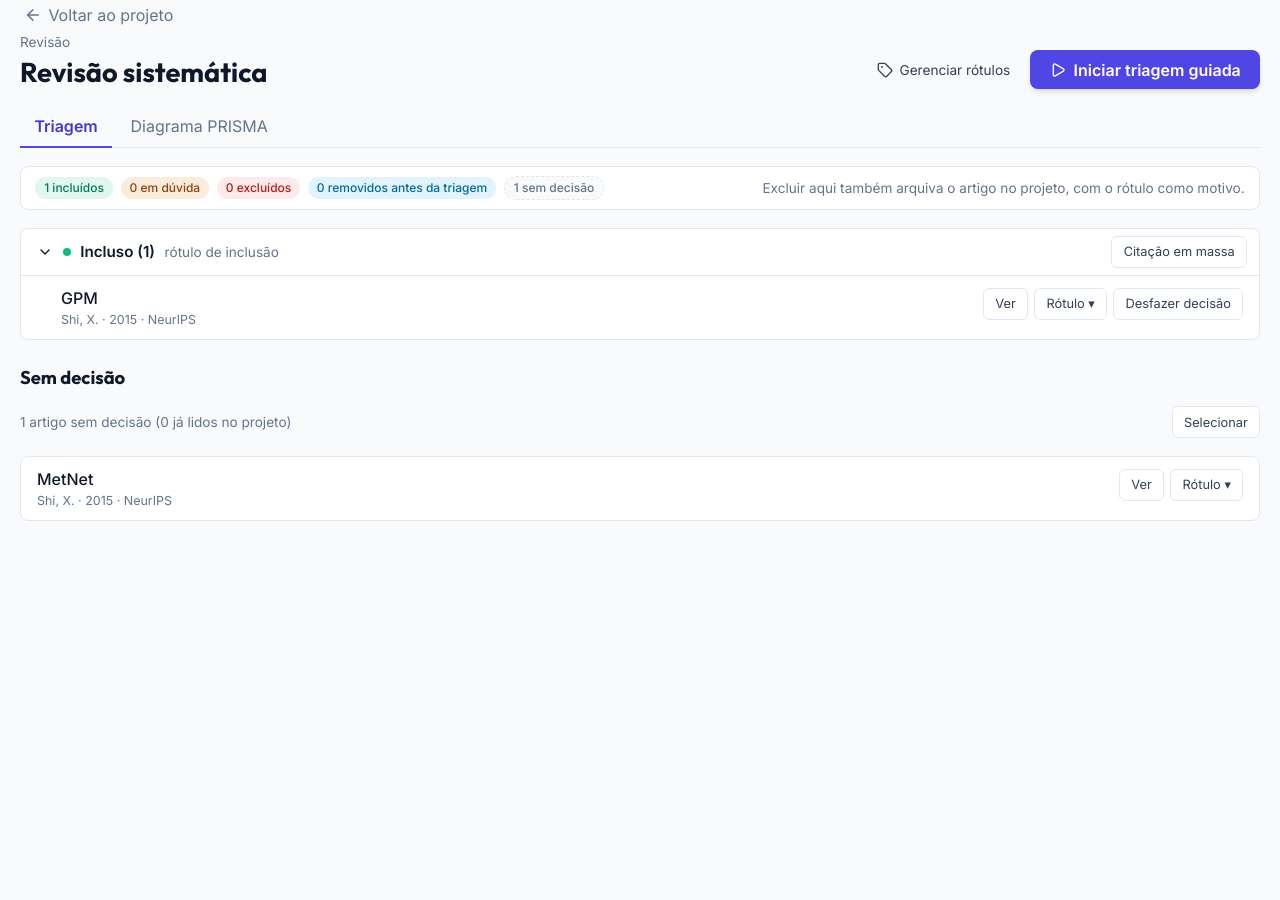
Test: SystematicReviewPage (#49) › closes a section and a label menu
Click the button "Incluso (1) rótulo de inclusão" at (107, 252), box [21,229,1112,275]
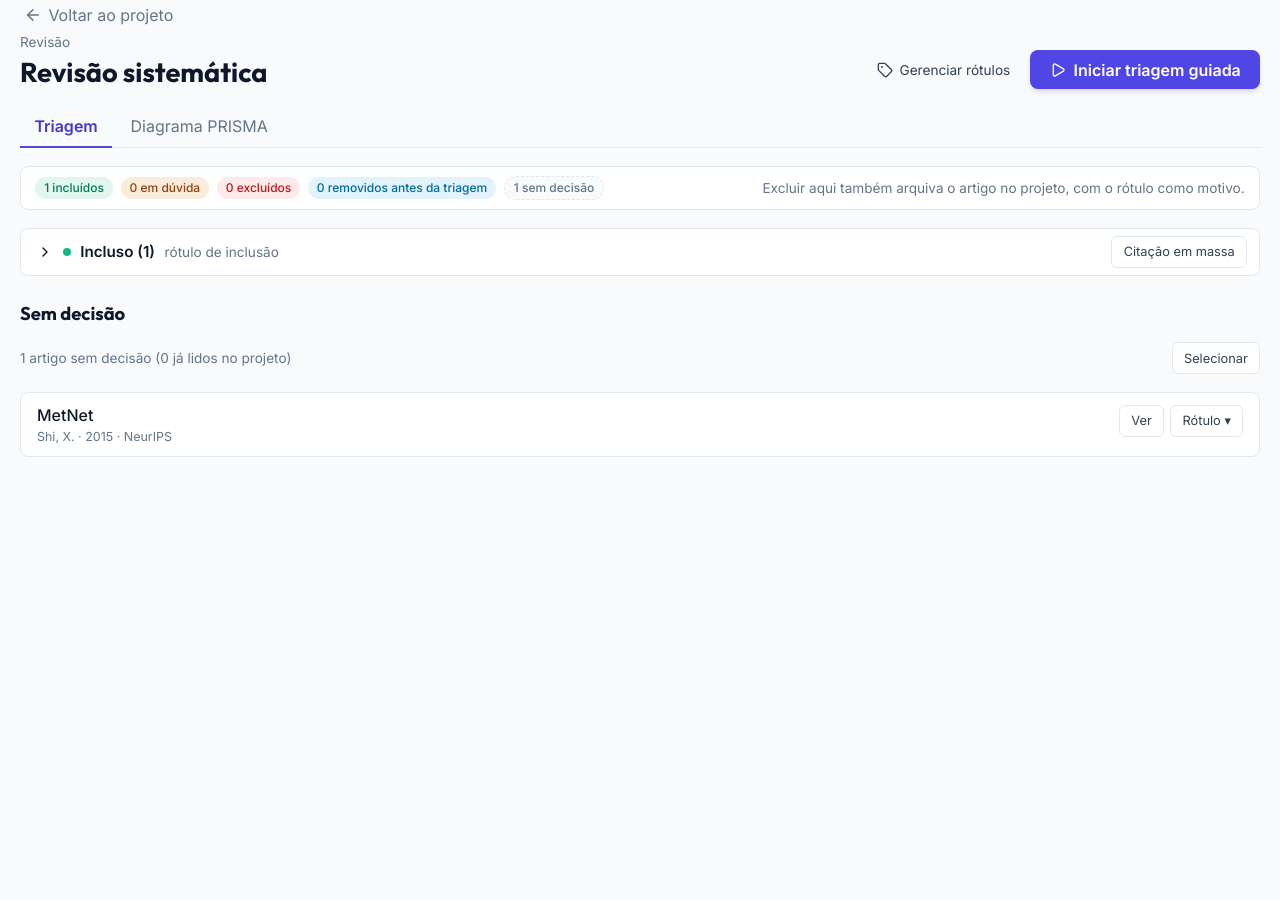
expect the text "GPM" is gone: met
Click the button "Rótulo ▾" at (1207, 421), box [1170,405,1243,437]
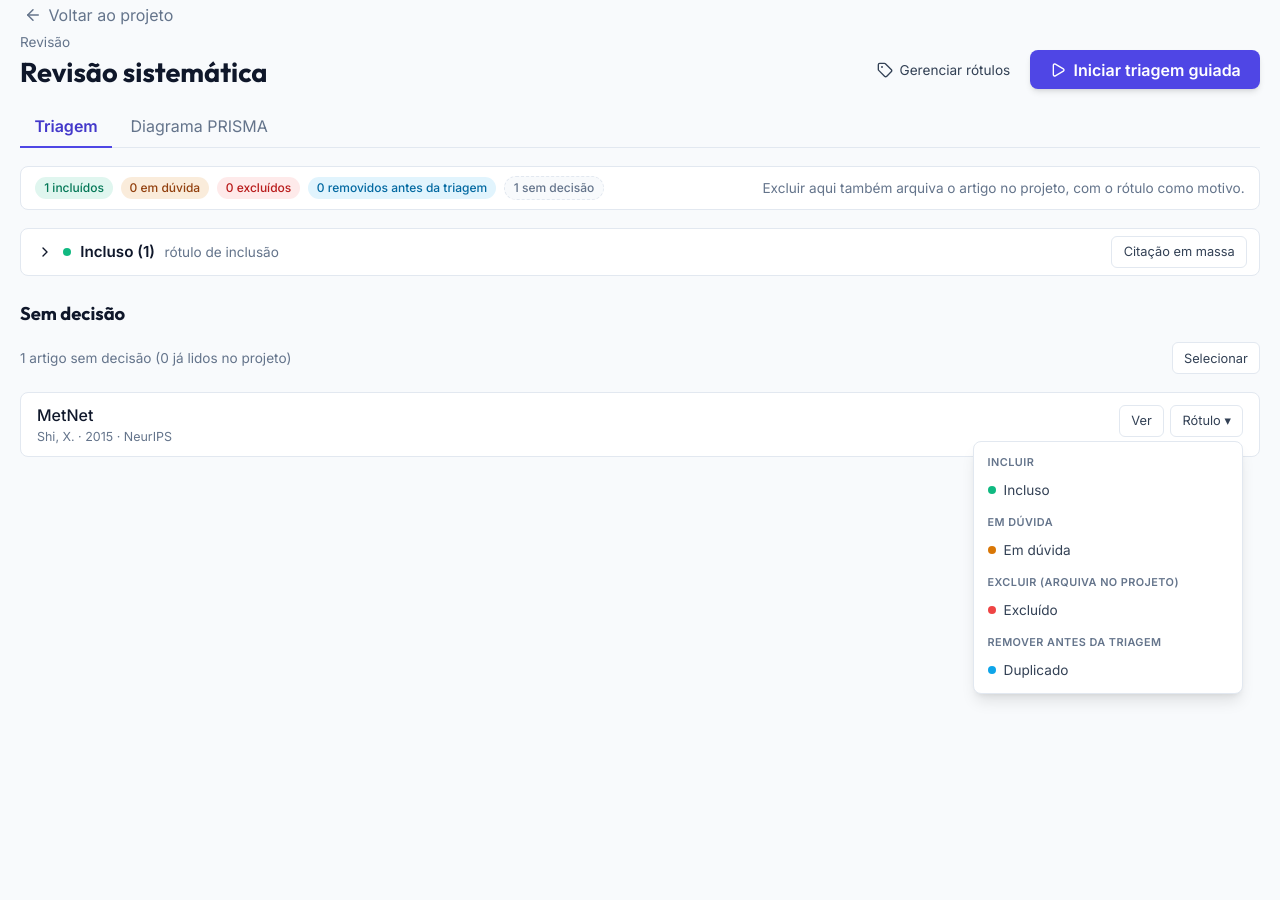
expect the menu named "Rótulos" is shown: met, box [973,441,1243,694]
Press Escape
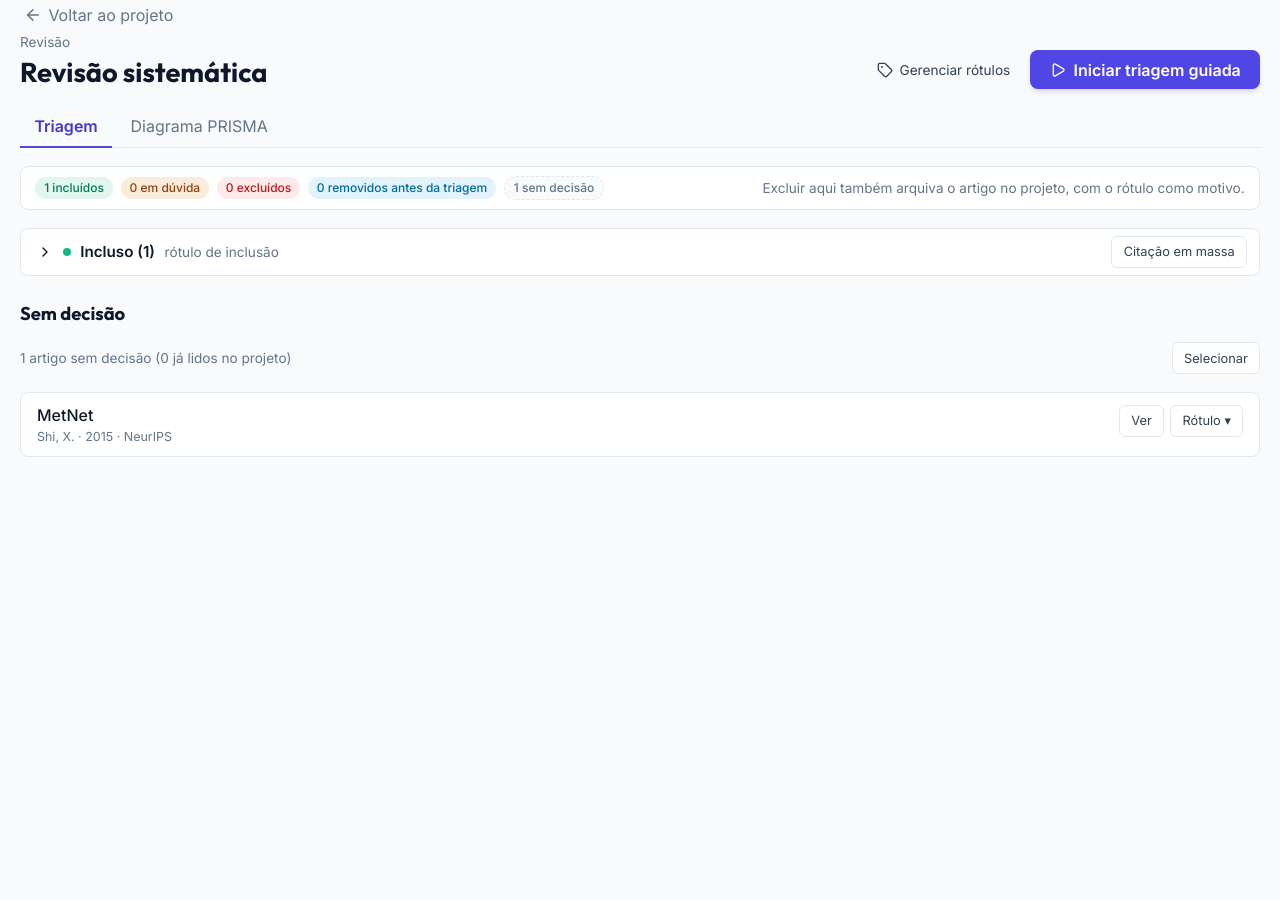
expect the menu is gone: met
